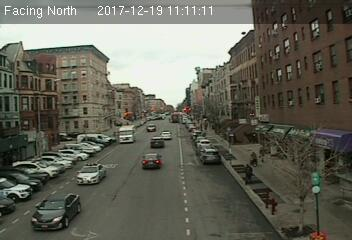car: (29, 193, 80, 231), (140, 152, 160, 169), (201, 148, 220, 163), (149, 137, 164, 148), (161, 130, 172, 140)
police: (75, 163, 106, 186)
truck: (119, 125, 137, 144)
